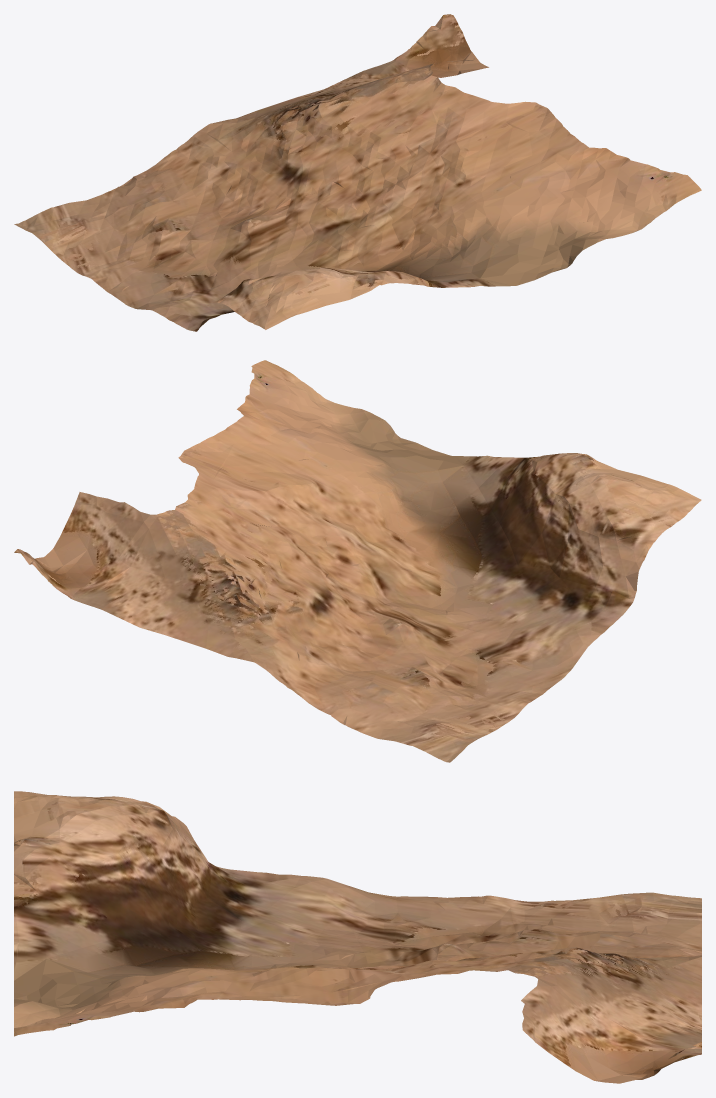
3 views of the same model, one above another, from view 1: azimuth 30°, elevation 25°; view 2: azimuth 150°, elevation 25°; view 3: azimuth 270°, elevation 25° (orthographic). The views are drawn at different scales.
Size of the model in its own units: 1.04 by 0.2717 by 1.04.
2 materials, 2 textured.
